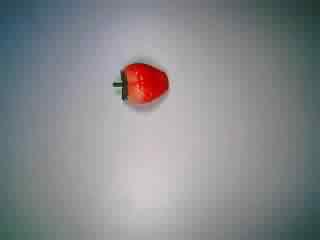strawberry: (104, 55, 170, 117)
